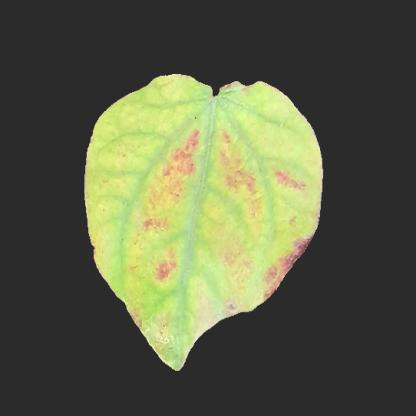curl_stage1: (101, 127, 293, 273), (141, 273, 227, 318), (226, 91, 286, 135), (153, 80, 203, 132)
